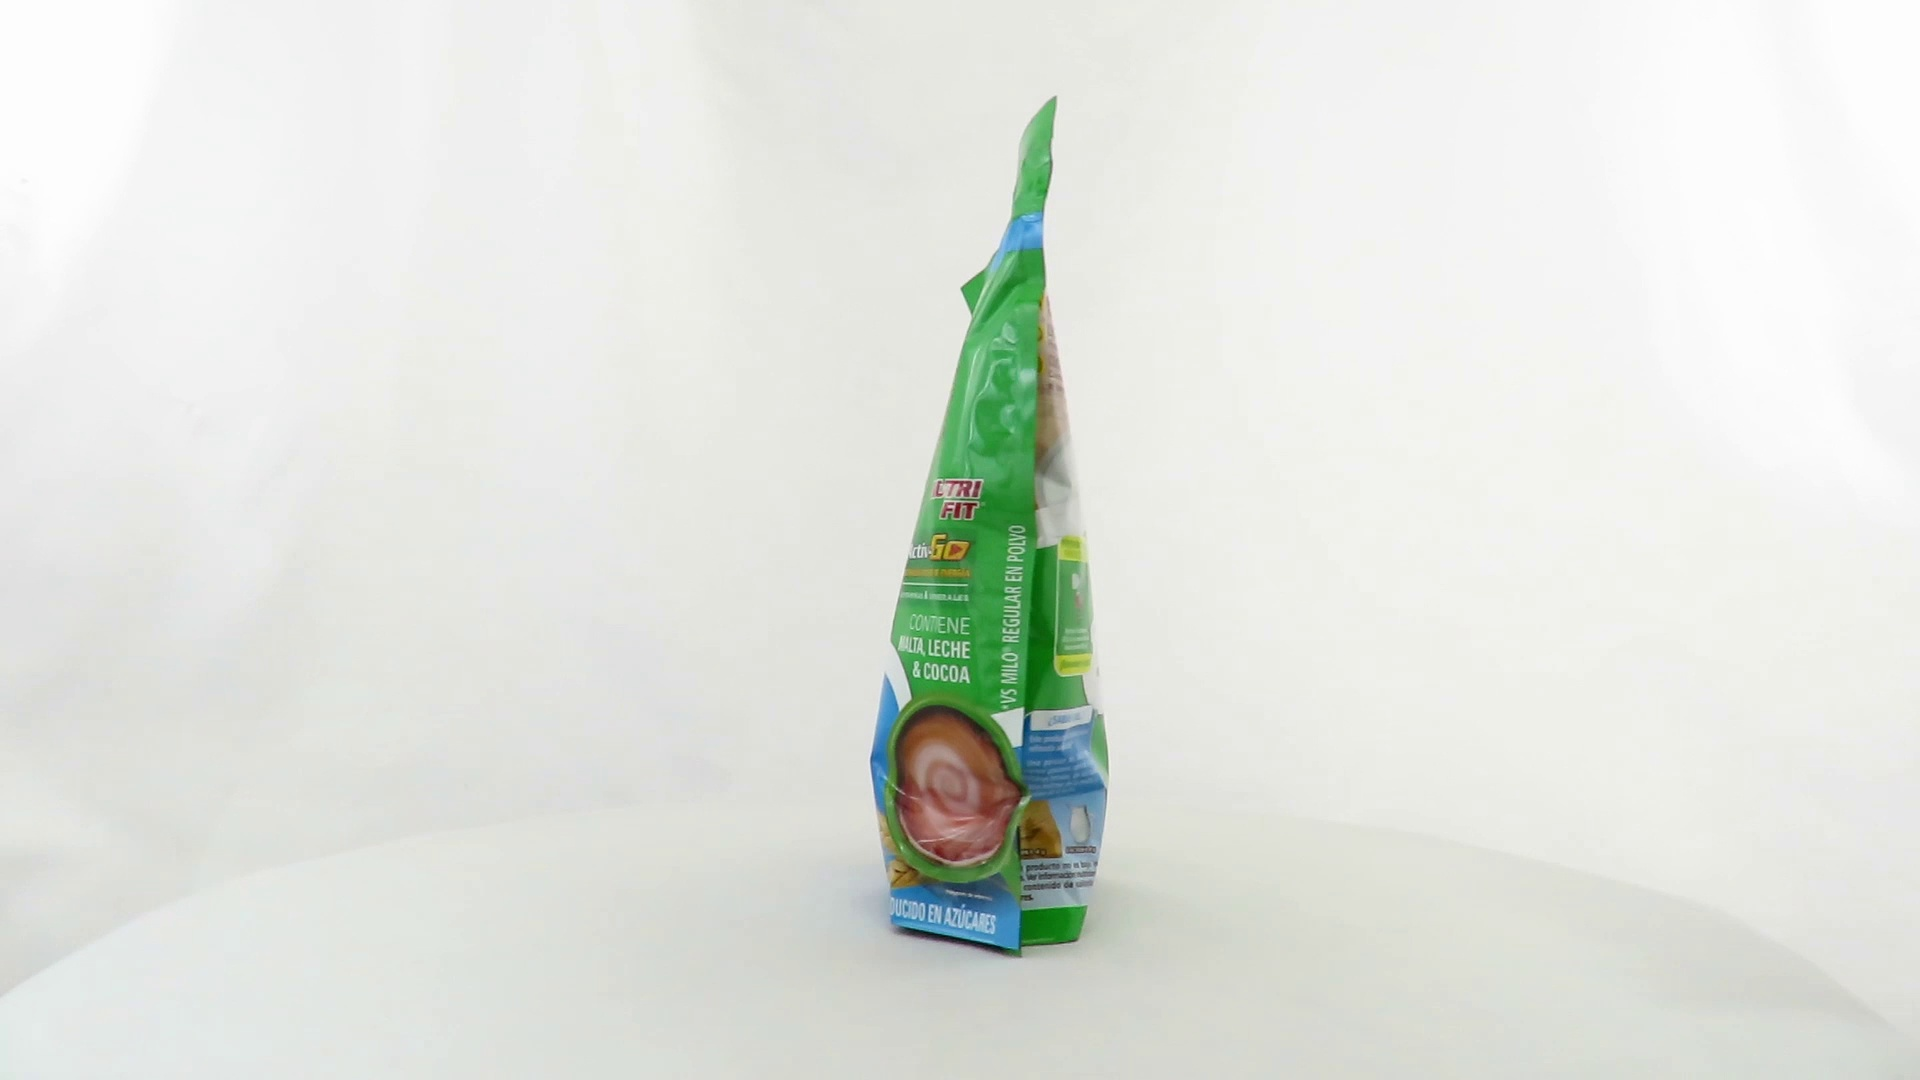COL0170205DYP50000: (865, 91, 1116, 968)
